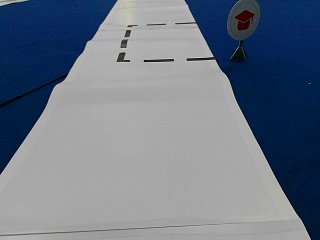school: (226, 0, 260, 39)
